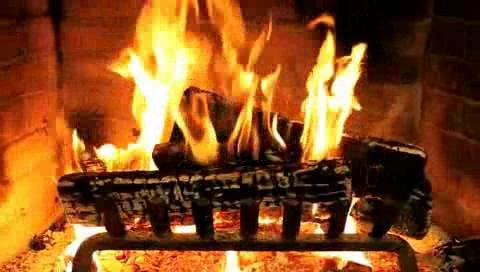fire: (14, 0, 480, 200)
